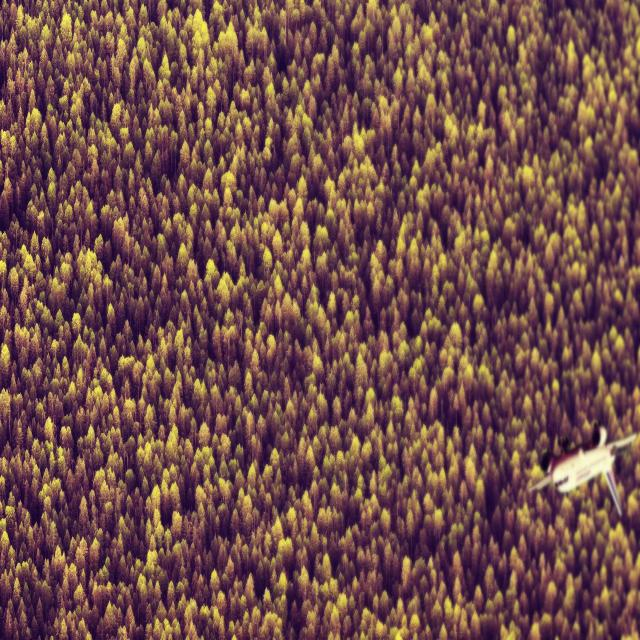airplane: (527, 423, 637, 516)
